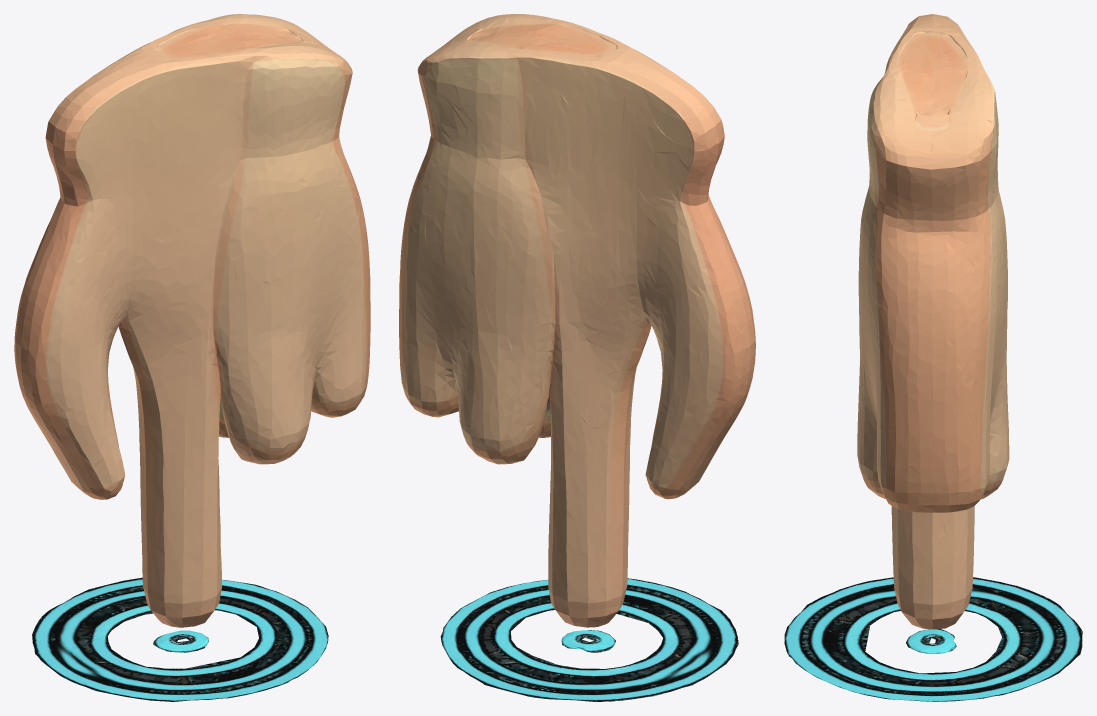
The model's file is COMMON_사물_ui_tutorial_finger.glb.
The picture shows the model from 3 angles, left to right: view 1: azimuth 30°, elevation 25°; view 2: azimuth 150°, elevation 25°; view 3: azimuth 270°, elevation 25°; orthographic projection.
Visible parts, largest first — view 1: world; view 2: world; view 3: world.
Part boxes in pixels (left/top/right/bottom): world: left=14, top=14, right=370, bottom=701; world: left=399, top=14, right=755, bottom=701; world: left=784, top=14, right=1082, bottom=701.
Bounding box in the file's own units: 0.5972 × 0.9994 × 0.4501.
Materials: 1 (1 with a texture image).
